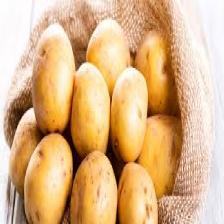Potato: (19, 132, 73, 224), (32, 30, 76, 128), (71, 153, 121, 224), (112, 66, 149, 160), (72, 64, 110, 150), (90, 20, 134, 91)
